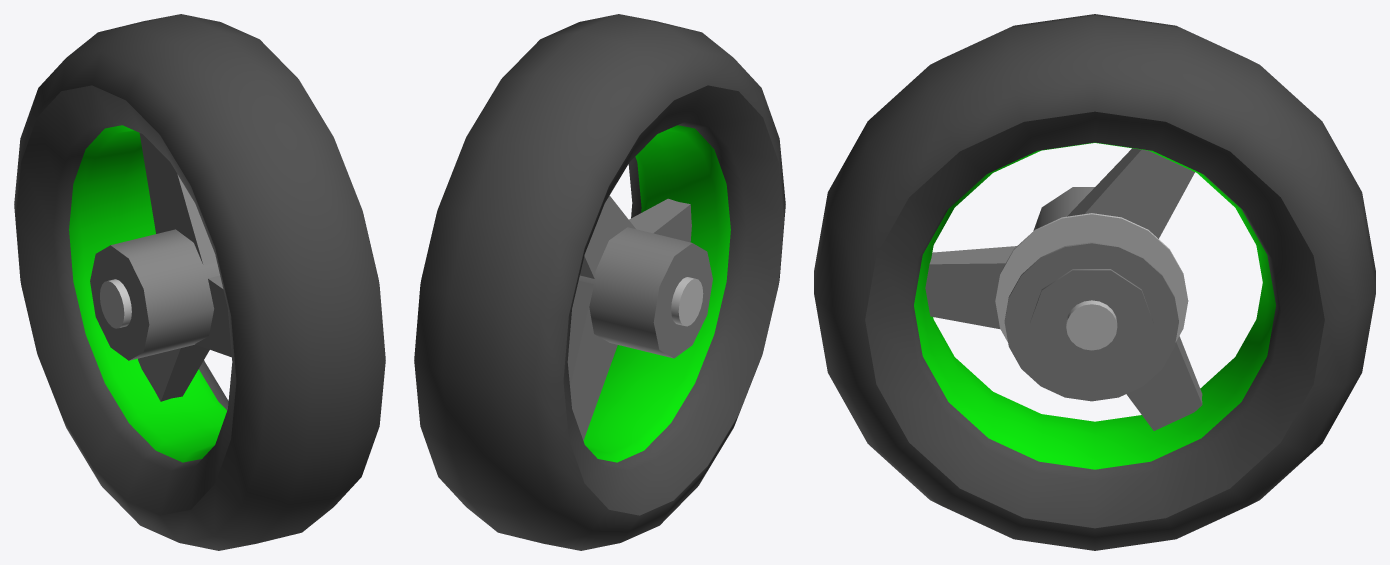
File: bike_sport_wheel_rear.fbx
3 views of the same model, side by side, from view 1: azimuth 30°, elevation 25°; view 2: azimuth 150°, elevation 25°; view 3: azimuth 270°, elevation 25° (orthographic). The views are drawn at different scales.
Visible parts, largest first — view 1: polySurface141; view 2: polySurface141; view 3: polySurface141.
Boxes of the visible parts, x1,y1,x2,y2 form: polySurface141: (14, 14, 385, 550); polySurface141: (414, 14, 785, 550); polySurface141: (814, 14, 1375, 550).
Size of the model in its own units: 24.39 by 63.68 by 63.68.
